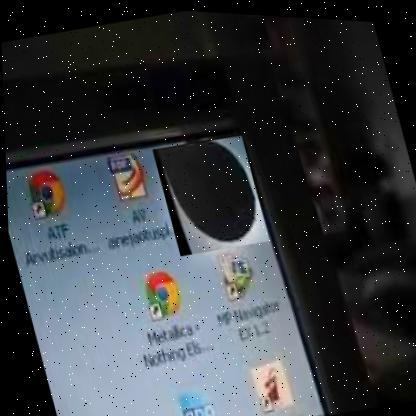spot: (151, 127, 270, 259)
